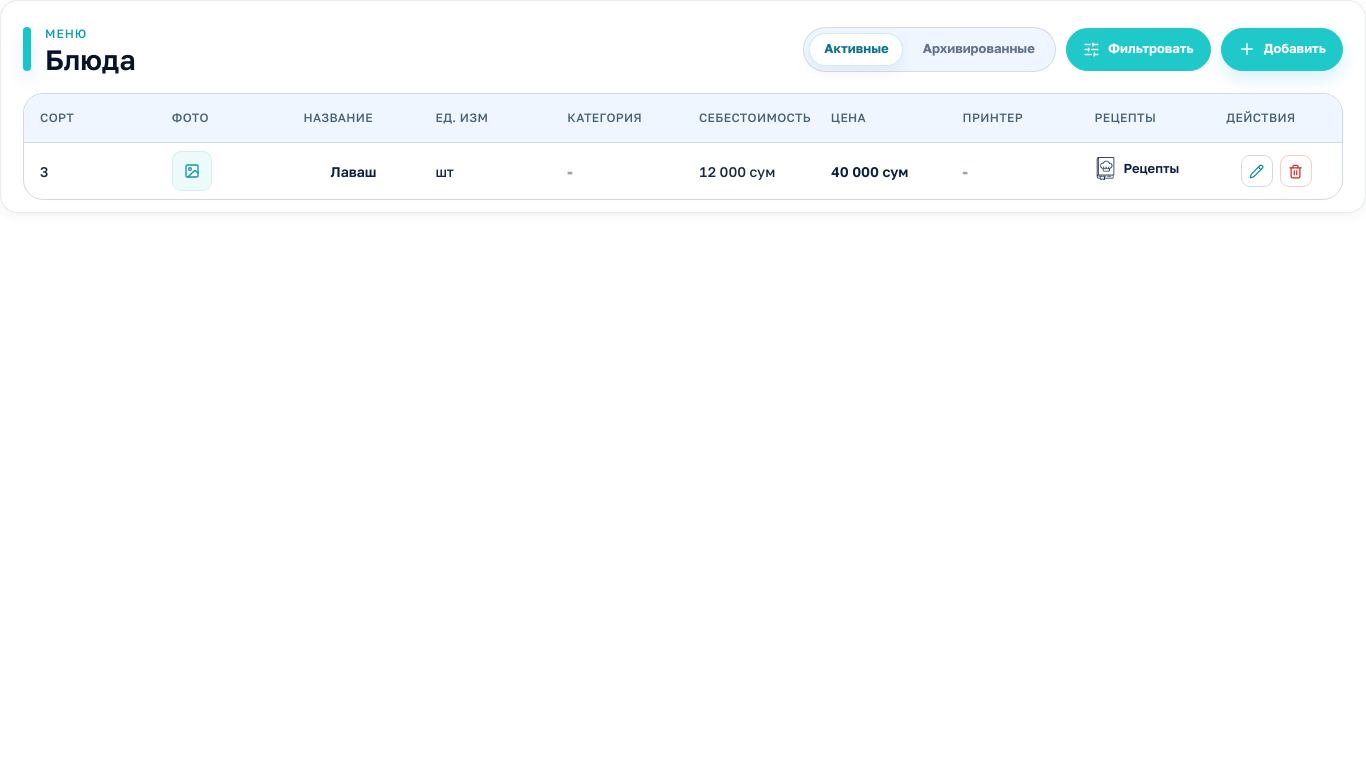
Test: DISHES archive/restore confirms › opens an archive confirm on trash and archives only on confirm
The width and height of the screenshot is (1366, 768).
Expected: the table named "Блюда" is shown, top-left (24, 94), bottom-right (1342, 199)
Expected: the text "Лаваш" is shown, top-left (330, 162), bottom-right (376, 180)
Click the button named "Удалить" at (1296, 171), box top-left (1280, 155), bottom-right (1312, 187)
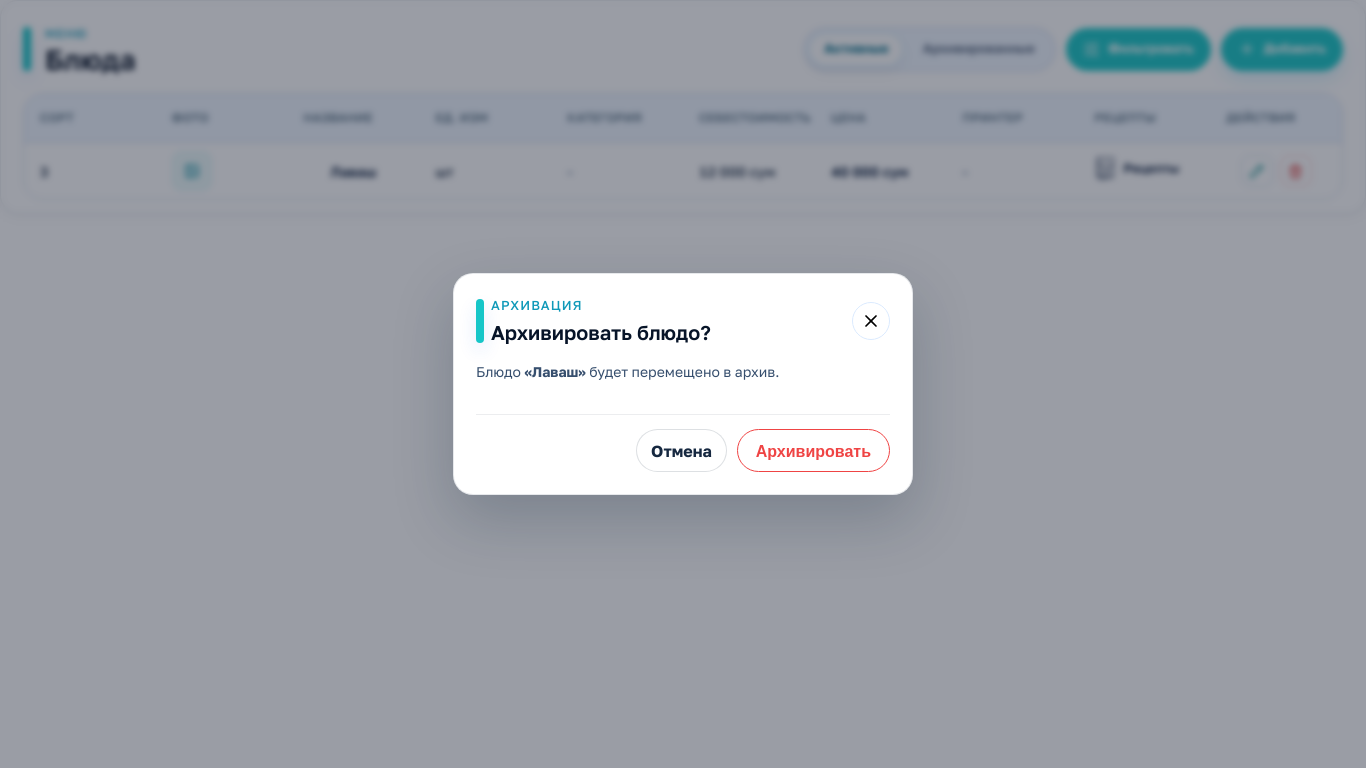
Now the dialog "Архивировать блюдо?" shows "Лаваш", box top-left (532, 363), bottom-right (578, 380)
# Отмена: без мутации, диалог закрыт, строка на месте.
Click the button "Отмена" at (681, 451), box top-left (636, 429), bottom-right (727, 472)
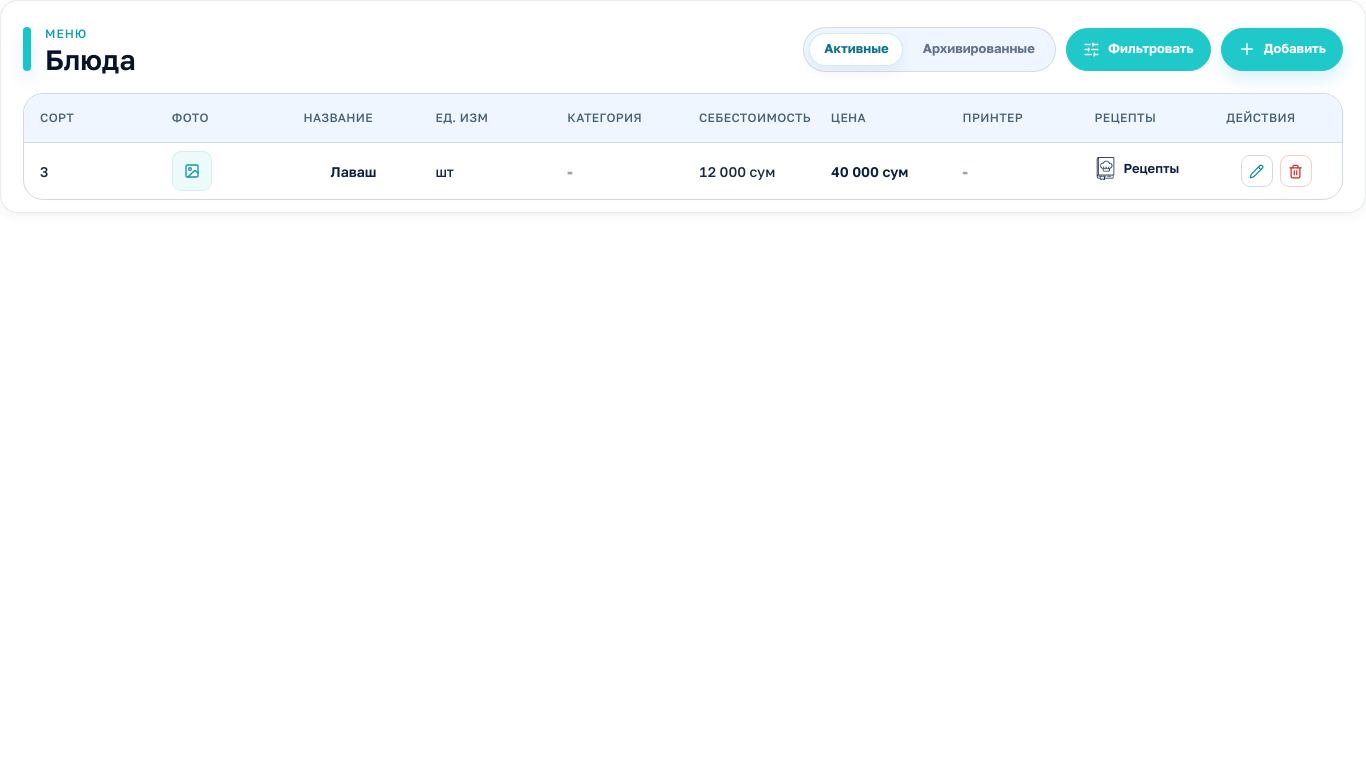
Expected: the table named "Блюда" shows "Лаваш", top-left (330, 162), bottom-right (376, 180)
Now the heading "Архивировать блюдо?" is gone
Click the button named "Удалить" at (1296, 171), box top-left (1280, 155), bottom-right (1312, 187)
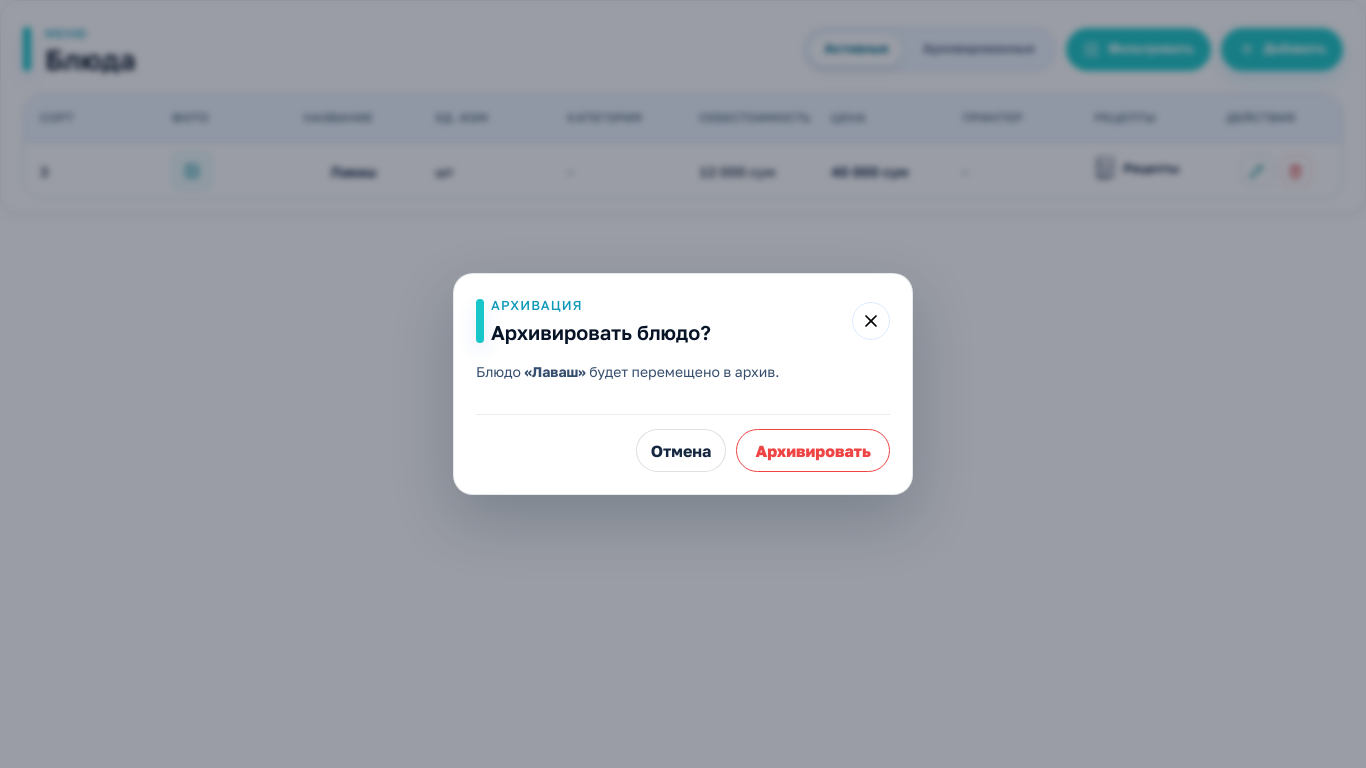
Click the button "Архивировать" at (813, 451), box top-left (736, 429), bottom-right (890, 472)
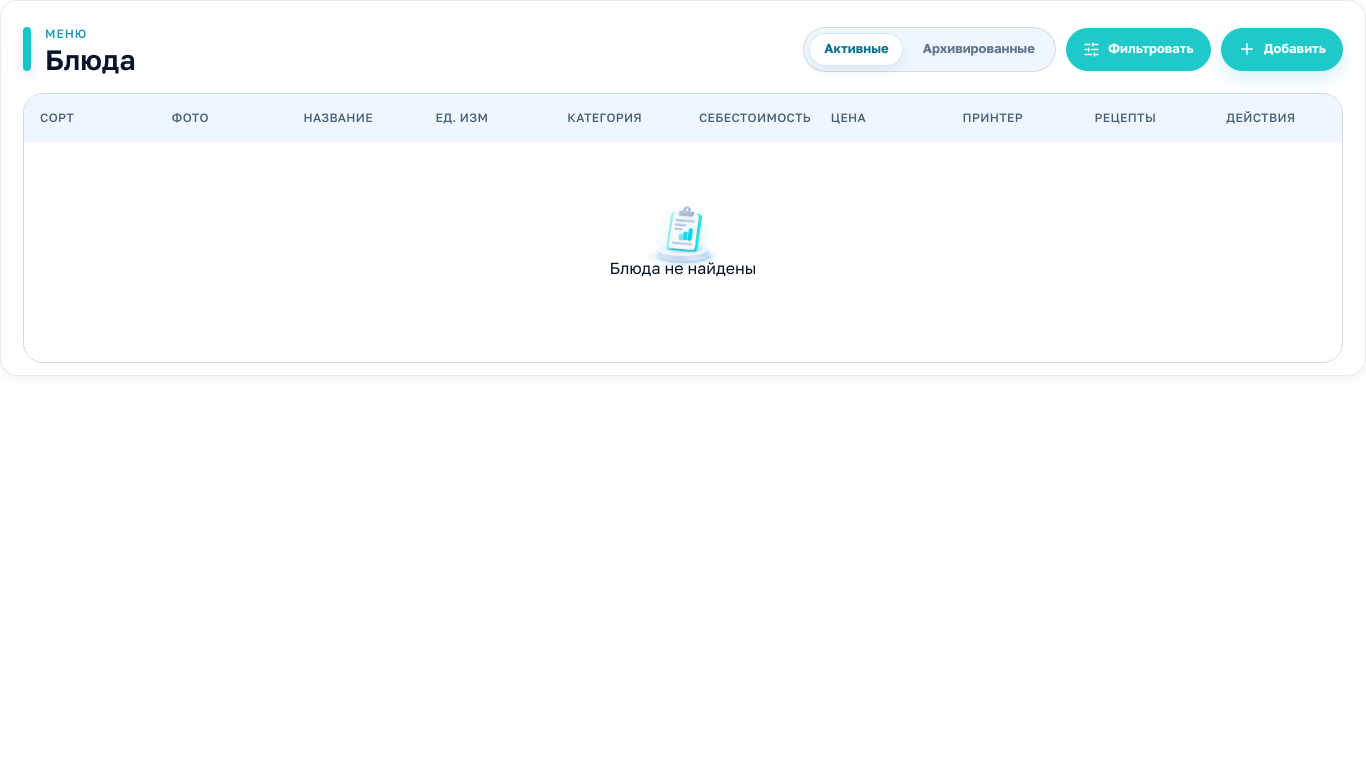
Now the heading "Архивировать блюдо?" is gone
Now the text "Блюда" no longer shows "Лаваш"
Click the tab "Архивированные" at (979, 49), box top-left (908, 32), bottom-right (1050, 66)
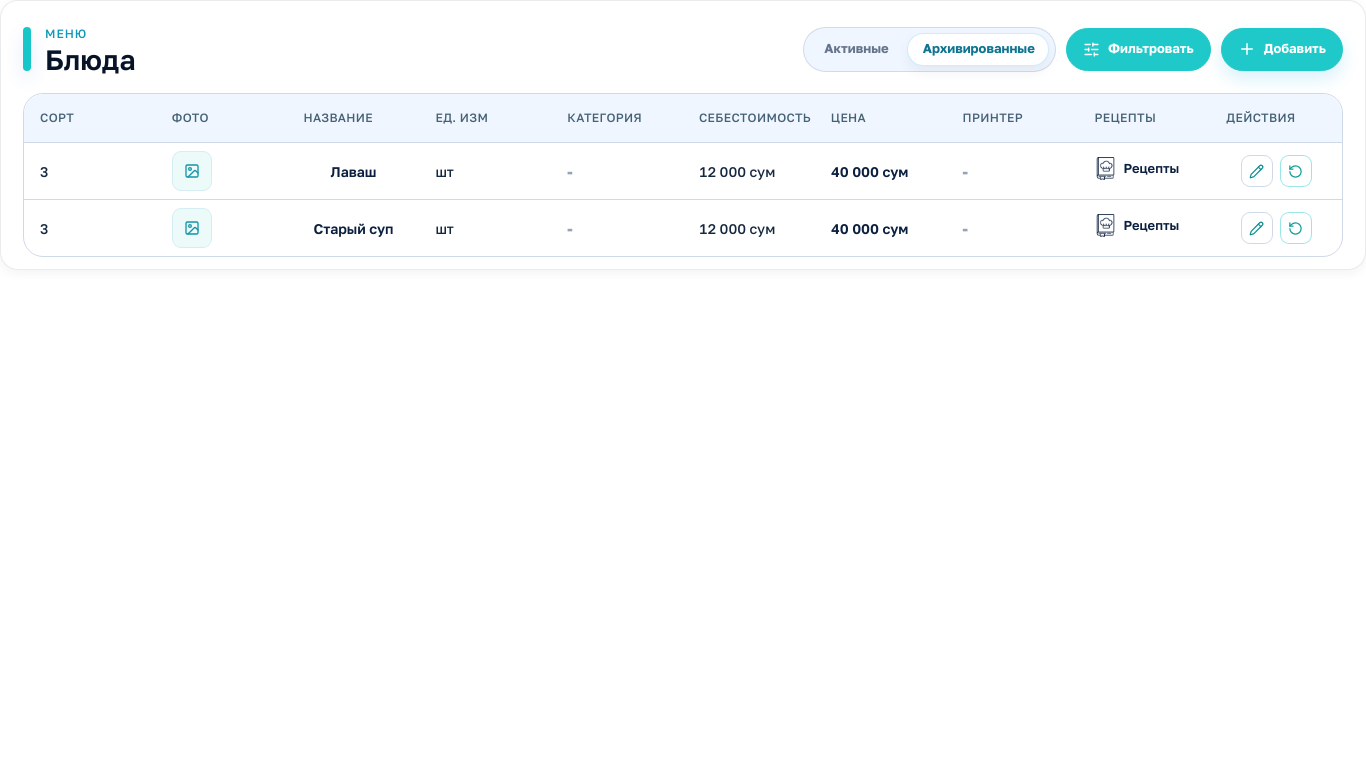
Now the table named "Блюда" shows "Лаваш", box top-left (330, 162), bottom-right (376, 180)
